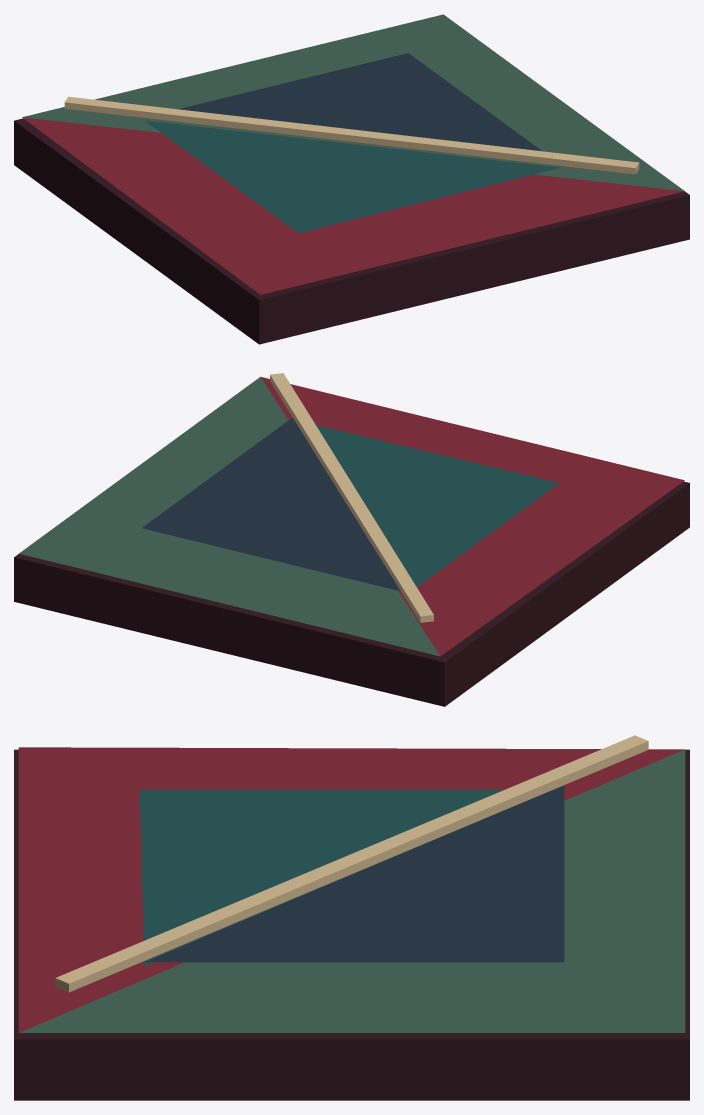
File: mia-ddakji.glb
3 views of the same model, one above another, from view 1: azimuth 30°, elevation 25°; view 2: azimuth 150°, elevation 25°; view 3: azimuth 270°, elevation 25° (orthographic). The views are drawn at different scales.
Visible parts, largest first — view 1: Body_velvet, Body_dark, Body_sage, Body_teal, Body_navy-seat, Body_ivory; view 2: Body_dark, Body_sage, Body_velvet, Body_navy-seat, Body_teal, Body_ivory; view 3: Body_sage, Body_velvet, Body_dark, Body_navy-seat, Body_teal, Body_ivory.
Boxes of the visible parts, x1,y1,x2,y2 form: Body_velvet: [22, 117, 684, 294]; Body_dark: [14, 118, 689, 344]; Body_sage: [22, 14, 684, 191]; Body_teal: [145, 120, 559, 233]; Body_navy-seat: [178, 53, 542, 151]; Body_ivory: [64, 96, 639, 174]; Body_dark: [14, 481, 689, 706]; Body_sage: [19, 377, 439, 656]; Body_velvet: [261, 377, 684, 656]; Body_navy-seat: [141, 417, 400, 591]; Body_teal: [316, 425, 558, 586]; Body_ivory: [270, 373, 433, 622]; Body_sage: [19, 749, 685, 1032]; Body_velvet: [18, 747, 684, 1032]; Body_dark: [14, 749, 689, 1100]; Body_navy-seat: [145, 785, 564, 962]; Body_teal: [139, 789, 505, 966]; Body_ivory: [55, 735, 648, 992].
Size of the model in its own units: 0.142 by 0.022 by 0.14.
